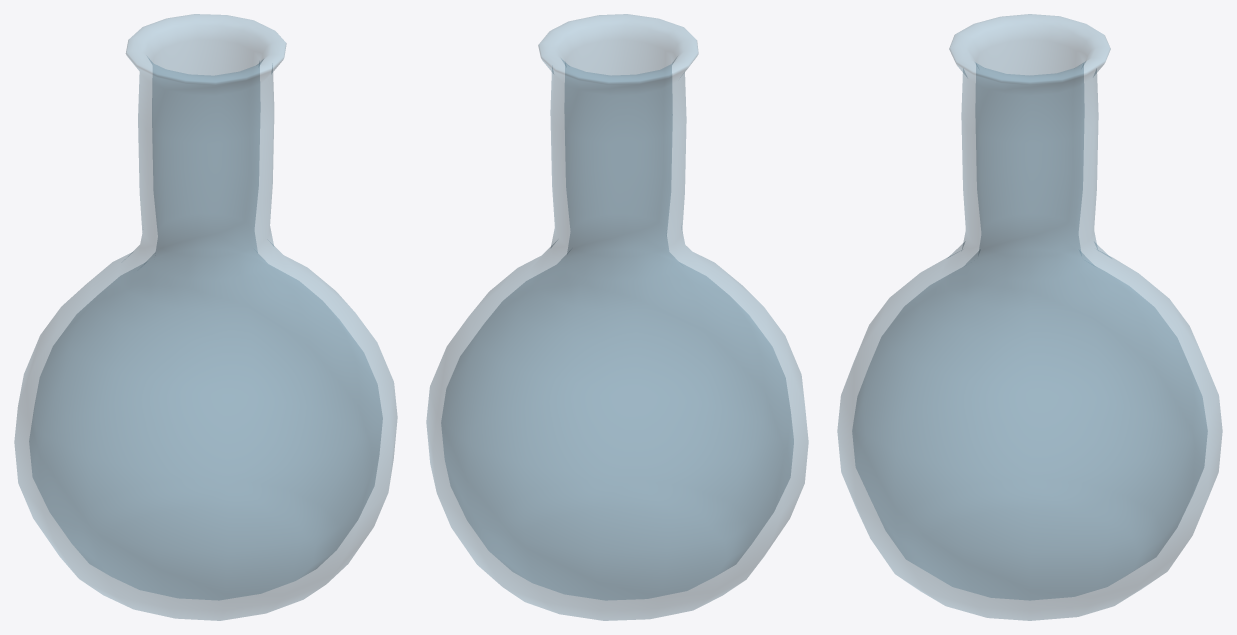
The model's file is colba5_chemistry.glb.
3 renders of one model, left to right at view 1: azimuth 30°, elevation 25°; view 2: azimuth 150°, elevation 25°; view 3: azimuth 270°, elevation 25°, orthographic.
Parts seen in each view (by area): view 1: nurbsToPoly1; view 2: nurbsToPoly1; view 3: nurbsToPoly1.
Part boxes in pixels (left/top/right/bottom): nurbsToPoly1: left=14, top=14, right=397, bottom=620; nurbsToPoly1: left=426, top=14, right=808, bottom=620; nurbsToPoly1: left=837, top=14, right=1222, bottom=620.
Size of the model in its own units: 0.0222 by 0.0336 by 0.0222.
1 material, 1 textured.
